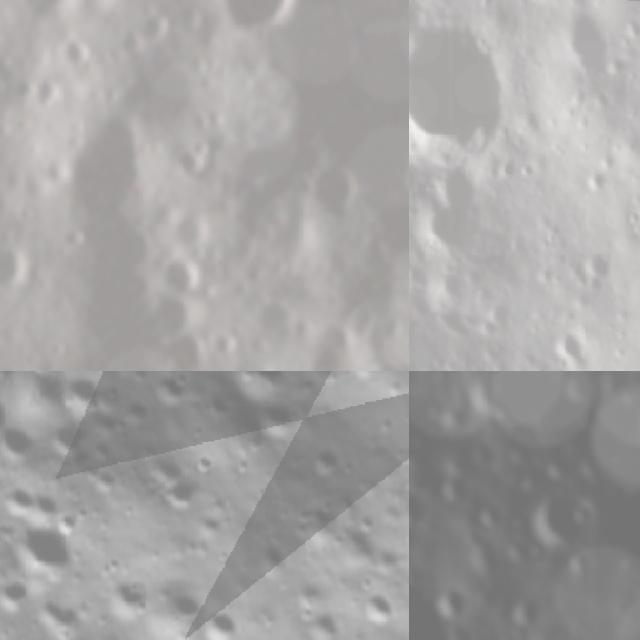crater: (35, 100, 175, 241), (409, 16, 513, 155), (125, 43, 222, 137), (416, 163, 494, 255), (129, 449, 207, 528), (199, 0, 316, 52), (10, 515, 80, 588), (298, 153, 369, 221), (558, 4, 618, 82), (149, 243, 218, 303), (529, 486, 592, 546), (242, 286, 307, 344), (36, 408, 97, 468), (140, 371, 212, 420), (465, 371, 521, 424), (101, 571, 155, 624), (167, 204, 220, 256), (0, 234, 43, 297), (194, 597, 247, 640), (546, 322, 592, 371), (26, 67, 73, 113), (228, 371, 287, 407), (573, 242, 617, 290), (301, 438, 345, 484), (253, 397, 298, 441), (132, 5, 178, 48), (357, 587, 402, 628), (4, 67, 46, 110), (293, 603, 339, 640), (54, 218, 96, 257), (205, 324, 245, 363), (0, 425, 36, 468), (564, 371, 607, 407), (58, 30, 97, 67), (599, 371, 640, 405), (466, 540, 504, 576), (115, 24, 151, 61), (506, 598, 543, 634), (572, 404, 606, 440), (432, 587, 465, 622), (436, 476, 470, 508), (187, 131, 219, 163), (474, 500, 504, 533), (418, 620, 453, 640), (573, 503, 596, 532), (409, 491, 423, 532), (398, 152, 409, 203), (0, 68, 9, 102)
